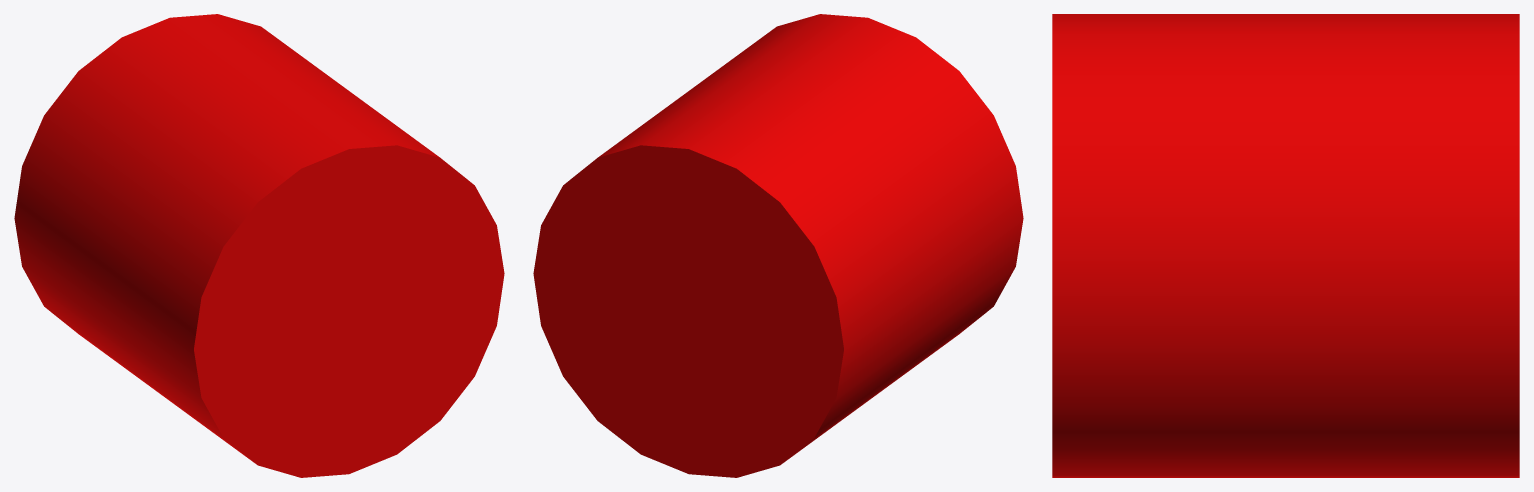
File: PrimitiveCylinder.fbx
The picture shows the model from 3 angles, left to right: view 1: azimuth 30°, elevation 25°; view 2: azimuth 150°, elevation 25°; view 3: azimuth 270°, elevation 25°; orthographic projection. The views are drawn at different scales.
Visible parts, largest first — view 1: PrimitiveCylinder; view 2: PrimitiveCylinder; view 3: PrimitiveCylinder.
Part boxes in pixels (x1,y1,x2,y2): PrimitiveCylinder: (14,14,504,477); PrimitiveCylinder: (533,14,1023,477); PrimitiveCylinder: (1052,14,1519,477).
Size of the model in its own units: 100 by 100 by 100.
